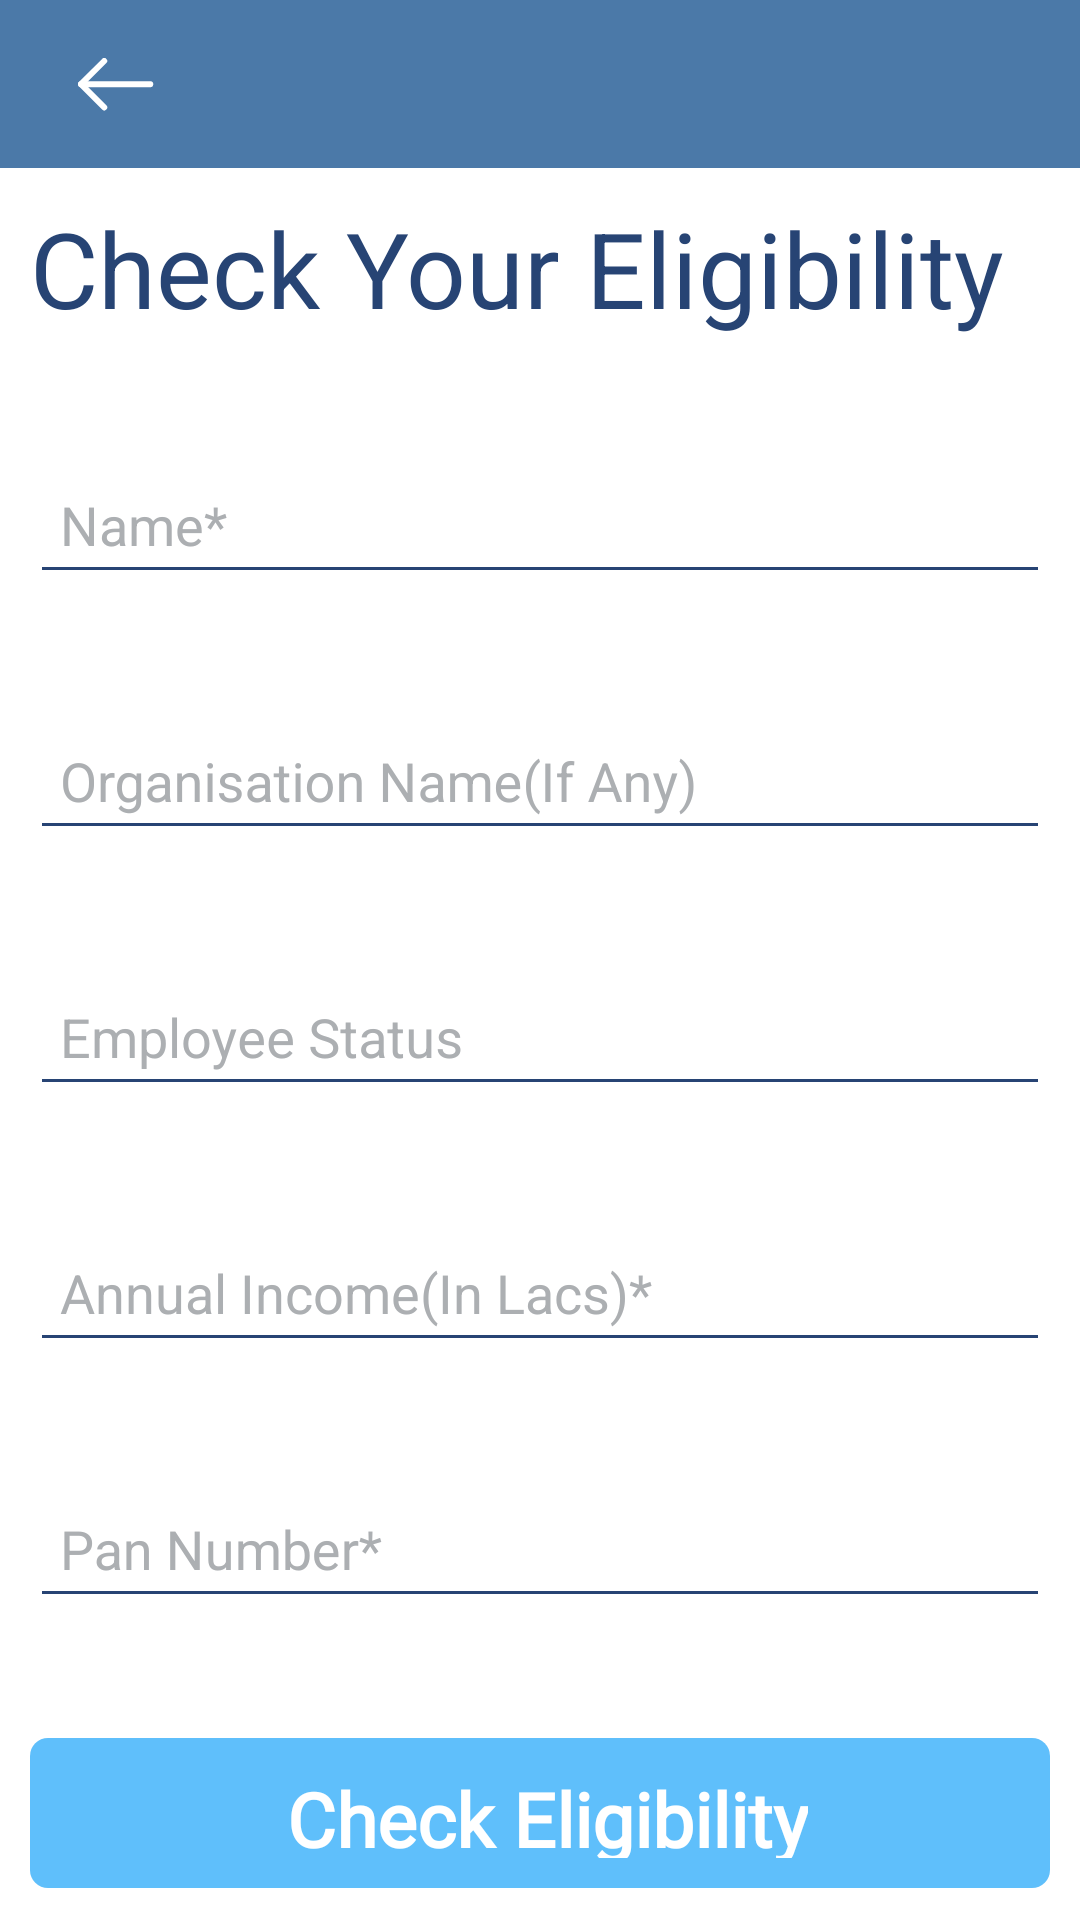

Where to tap for icons on this 1080 × 1920 app screen, as point (x, y):
back: point (116, 84)
